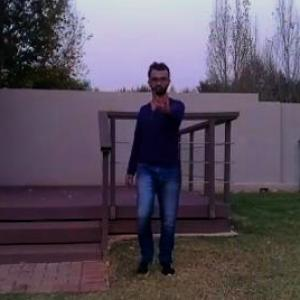takeoff-hand: (151, 84, 180, 117)
